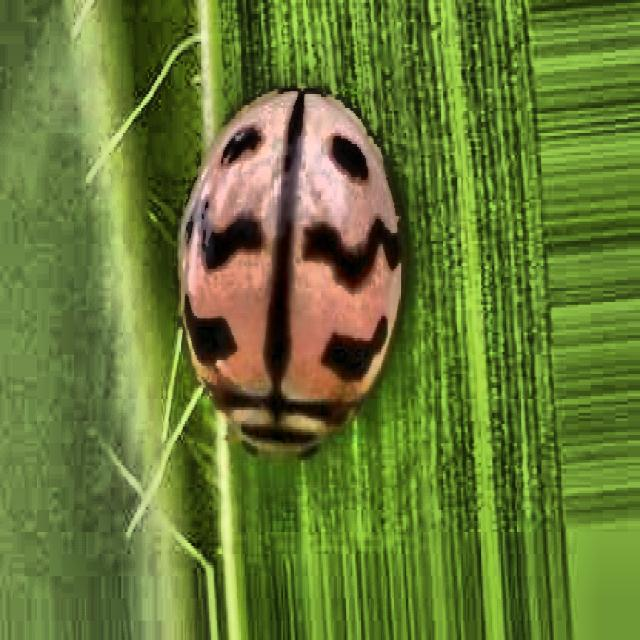Asian-Lady-beetle: (143, 59, 454, 584)
